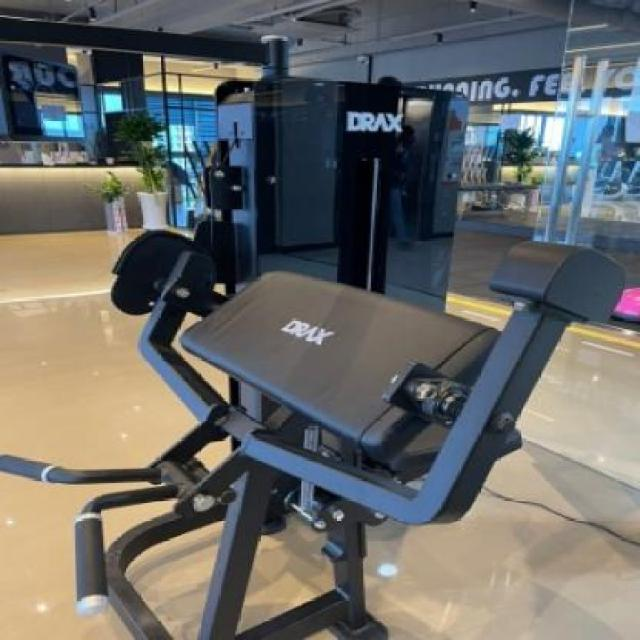arm curl machine: (0, 237, 622, 640)
